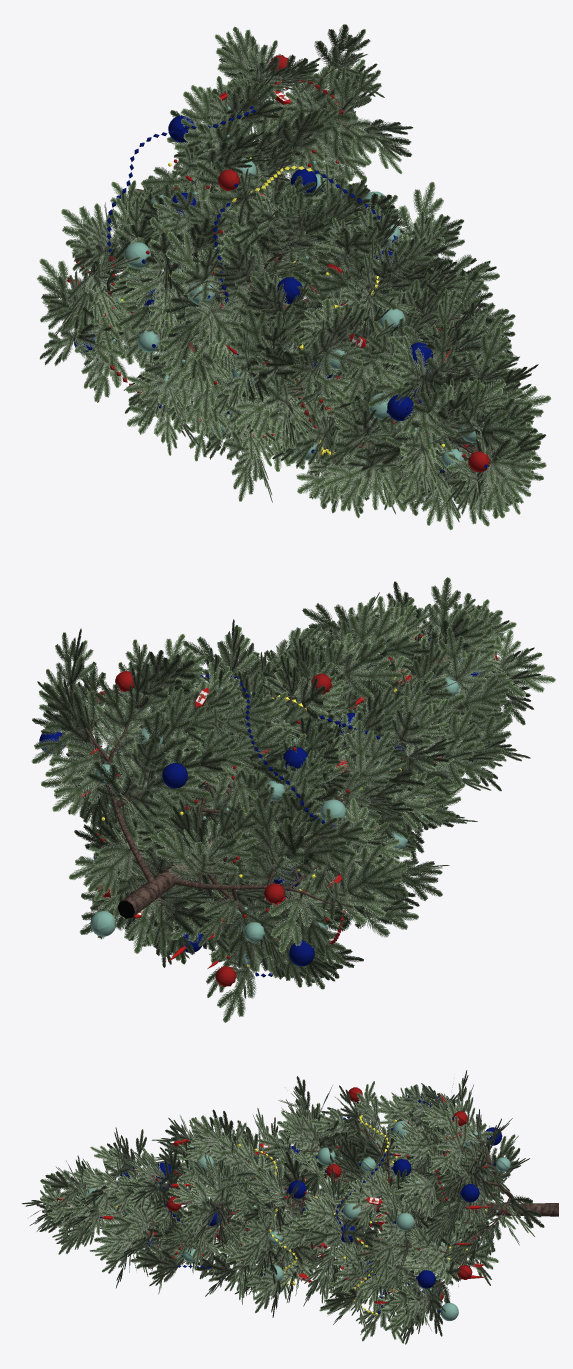
Rendered from xmas_tree.fbx.
The picture shows the model from 3 angles, top to bottom: view 1: azimuth 30°, elevation 25°; view 2: azimuth 150°, elevation 25°; view 3: azimuth 270°, elevation 25°; orthographic projection. The views are drawn at different scales.
Parts seen in each view (by area): view 1: model_15, model_18, model_16, model_17, model_22, model_20, model_21, blue_balls, green_balls, model_11, green_balls2, red_balls; view 2: model_15, model_16, model_18, model_17, model_20, model_22, model_11, model_21, blue_balls, red_balls, green_balls2, green_balls; view 3: model_15, model_18, model_16, model_17, model_22, model_20, model_21, model_11, green_balls, blue_balls, red_balls, green_balls2 (+1 smaller).
Part boxes in pixels (x1=…): model_15: x1=36, y1=26, x2=518, y2=491; model_18: x1=41, y1=40, x2=546, y2=522; model_16: x1=39, y1=24, x2=551, y2=517; model_17: x1=70, y1=66, x2=546, y2=513; model_22: x1=186, y1=191, x2=542, y2=526; model_20: x1=88, y1=166, x2=543, y2=519; model_21: x1=184, y1=194, x2=524, y2=530; blue_balls: x1=74, y1=109, x2=432, y2=480; green_balls: x1=124, y1=158, x2=483, y2=459; model_11: x1=72, y1=65, x2=491, y2=479; green_balls2: x1=115, y1=174, x2=463, y2=469; red_balls: x1=75, y1=55, x2=489, y2=472; model_15: x1=31, y1=605, x2=493, y2=998; model_16: x1=32, y1=594, x2=505, y2=997; model_18: x1=37, y1=597, x2=511, y2=1022; model_17: x1=90, y1=577, x2=555, y2=989; model_20: x1=41, y1=593, x2=535, y2=974; model_22: x1=208, y1=598, x2=540, y2=895; model_11: x1=69, y1=632, x2=498, y2=968; model_21: x1=214, y1=610, x2=542, y2=897; blue_balls: x1=39, y1=660, x2=484, y2=966; red_balls: x1=97, y1=653, x2=497, y2=986; green_balls2: x1=95, y1=676, x2=459, y2=968; green_balls: x1=90, y1=666, x2=460, y2=936; model_15: x1=131, y1=1070, x2=518, y2=1341; model_18: x1=21, y1=1084, x2=529, y2=1334; model_16: x1=55, y1=1083, x2=544, y2=1344; model_17: x1=40, y1=1085, x2=534, y2=1317; model_22: x1=29, y1=1076, x2=395, y2=1301; model_20: x1=41, y1=1087, x2=488, y2=1315; model_21: x1=36, y1=1104, x2=396, y2=1315; model_11: x1=76, y1=1108, x2=558, y2=1309; green_balls: x1=85, y1=1121, x2=478, y2=1320; blue_balls: x1=120, y1=1127, x2=502, y2=1294; red_balls: x1=57, y1=1087, x2=472, y2=1299; green_balls2: x1=183, y1=1143, x2=510, y2=1314.
Size of the model in its own units: 0.9649 by 0.9701 by 1.69.
15 materials, 15 textured.
